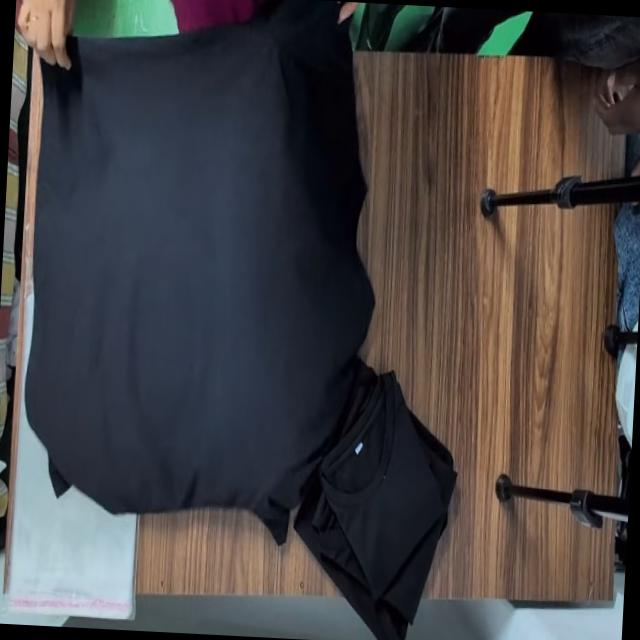new-garment: (27, 0, 373, 542)
